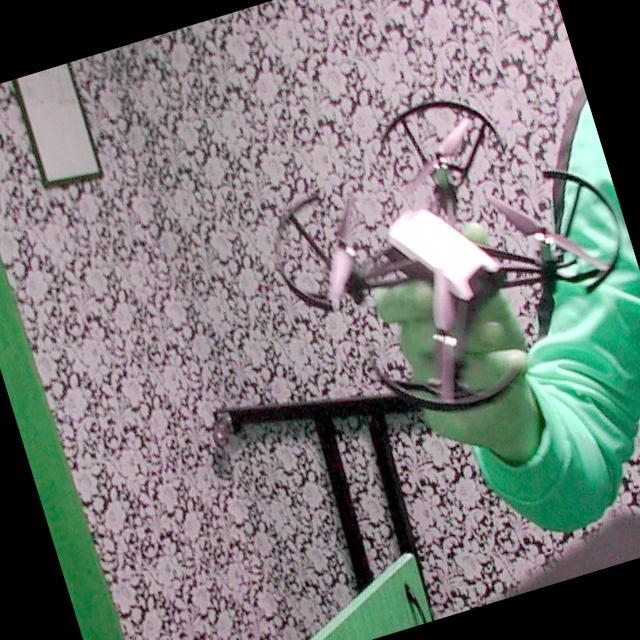drone: (245, 50, 640, 469)
